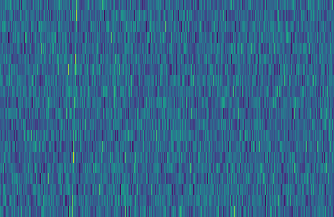signal: (65, 0, 79, 217)
